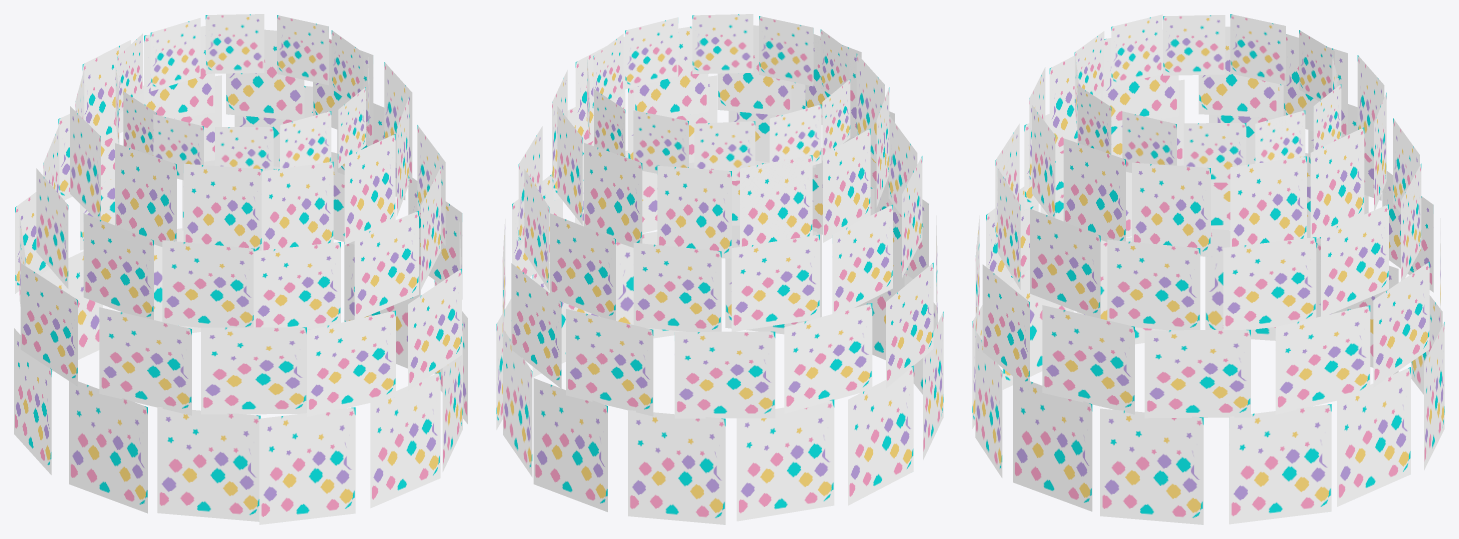
File: winVFX.glb
3 renders of one model, left to right at view 1: azimuth 30°, elevation 25°; view 2: azimuth 150°, elevation 25°; view 3: azimuth 270°, elevation 25°, orthographic.
Parts seen in each view (by area): view 1: winVFX; view 2: winVFX; view 3: winVFX.
Boxes of the visible parts, x1,y1,x2,y2 form: winVFX: (14,14,467,524); winVFX: (496,14,943,524); winVFX: (972,14,1444,524).
Size of the model in its own units: 52.2 by 46.42 by 54.98.
1 material, 1 textured.
